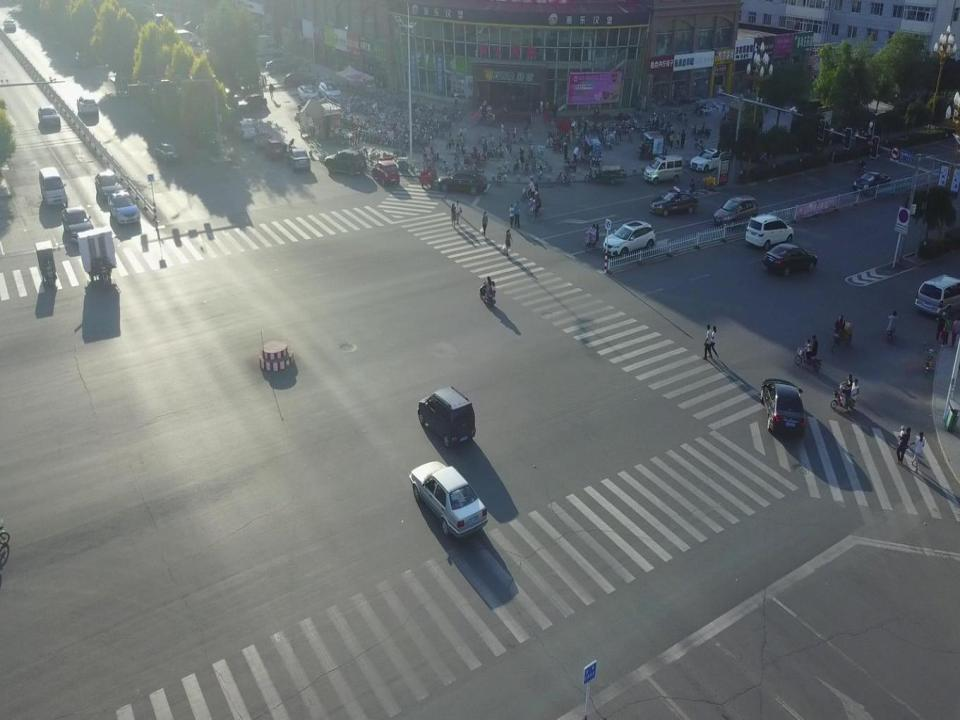car: (408, 461, 488, 538), (417, 386, 476, 449), (759, 378, 807, 436), (602, 220, 656, 259), (762, 242, 817, 276), (745, 213, 794, 249), (714, 195, 758, 229), (436, 168, 487, 196), (650, 187, 699, 216), (60, 207, 95, 244), (108, 188, 140, 225), (324, 149, 367, 176), (852, 171, 891, 196), (690, 148, 730, 172), (94, 170, 123, 202), (372, 159, 400, 187), (155, 142, 182, 166), (284, 148, 310, 172), (265, 57, 298, 74), (238, 93, 267, 112), (262, 138, 284, 162), (283, 72, 316, 88), (38, 105, 61, 127), (233, 120, 255, 142), (77, 96, 99, 116), (298, 84, 318, 104), (3, 18, 16, 31)
truck: (167, 29, 204, 59), (246, 34, 283, 57)
van: (914, 274, 960, 319), (643, 154, 683, 185), (39, 167, 68, 208)
